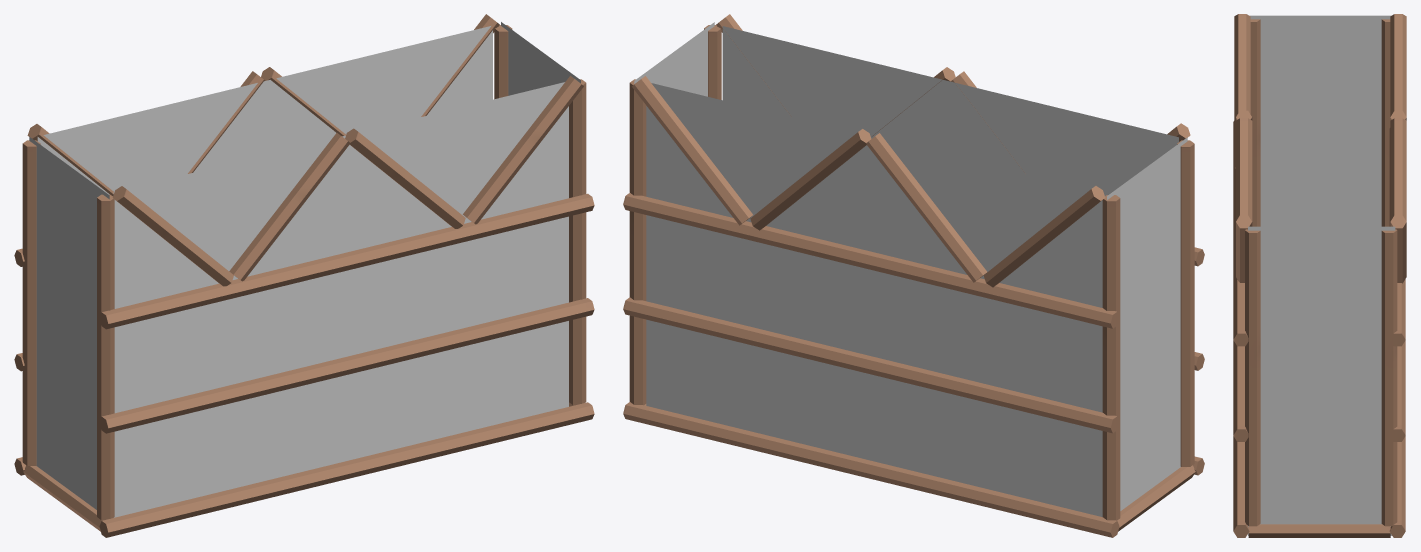
File: manzua.fbx
The picture shows the model from 3 angles, left to right: view 1: azimuth 30°, elevation 25°; view 2: azimuth 150°, elevation 25°; view 3: azimuth 270°, elevation 25°; orthographic projection. The views are drawn at different scales.
Visible parts, largest first — view 1: pngegg, pngegg.001, Cylinder.004, pngegg.003, Cylinder, Cylinder.001, Cylinder.009, Cylinder.008, Cylinder.006, Cylinder.007, pngegg.002, Cylinder.005; view 2: pngegg.001, pngegg, Cylinder.003, pngegg.003, Cylinder.001, Cylinder, Cylinder.009, Cylinder.008, Cylinder.007, Cylinder.006, pngegg.002, Cylinder.005; view 3: pngegg.002, pngegg.003, Cylinder.001, Cylinder, Cylinder.004, Cylinder.006, Cylinder.007, Cylinder.003, Cylinder.002, Cylinder.009, Cylinder.008.
Part boxes in pixels (x1,y1,x2,y2): pngegg: (113,82,568,517); pngegg.001: (37,26,492,194); Cylinder.004: (99,193,594,537); pngegg.003: (29,137,109,509); Cylinder: (97,79,586,520); Cylinder.001: (22,25,512,465); Cylinder.009: (421,14,583,224); Cylinder.008: (188,71,349,281); Cylinder.006: (27,124,233,286); Cylinder.007: (261,67,465,228); pngegg.002: (501,22,580,95); Cylinder.005: (23,465,102,531); pngegg.001: (646,83,1102,516); pngegg: (722,26,1178,195); Cylinder.003: (623,193,1119,537); pngegg.003: (1107,137,1187,510); Cylinder.001: (629,79,1120,520); Cylinder: (704,25,1194,466); Cylinder.009: (632,14,791,225); Cylinder.008: (866,71,1025,282); Cylinder.007: (750,67,955,230); Cylinder.006: (983,123,1190,287); pngegg.002: (634,22,714,96); Cylinder.005: (1117,465,1195,531); pngegg.002: (1248,226,1395,535); pngegg.003: (1250,15,1390,226); Cylinder.001: (1381,19,1397,526); Cylinder: (1245,19,1260,526); Cylinder.004: (1233,121,1249,537); Cylinder.006: (1234,14,1406,168); Cylinder.007: (1236,118,1406,221); Cylinder.003: (1389,128,1405,537); Cylinder.002: (1248,524,1390,537); Cylinder.009: (1236,215,1406,283); Cylinder.008: (1236,110,1406,120).
Bounding box in the file's own units: 319 × 216 × 107.
